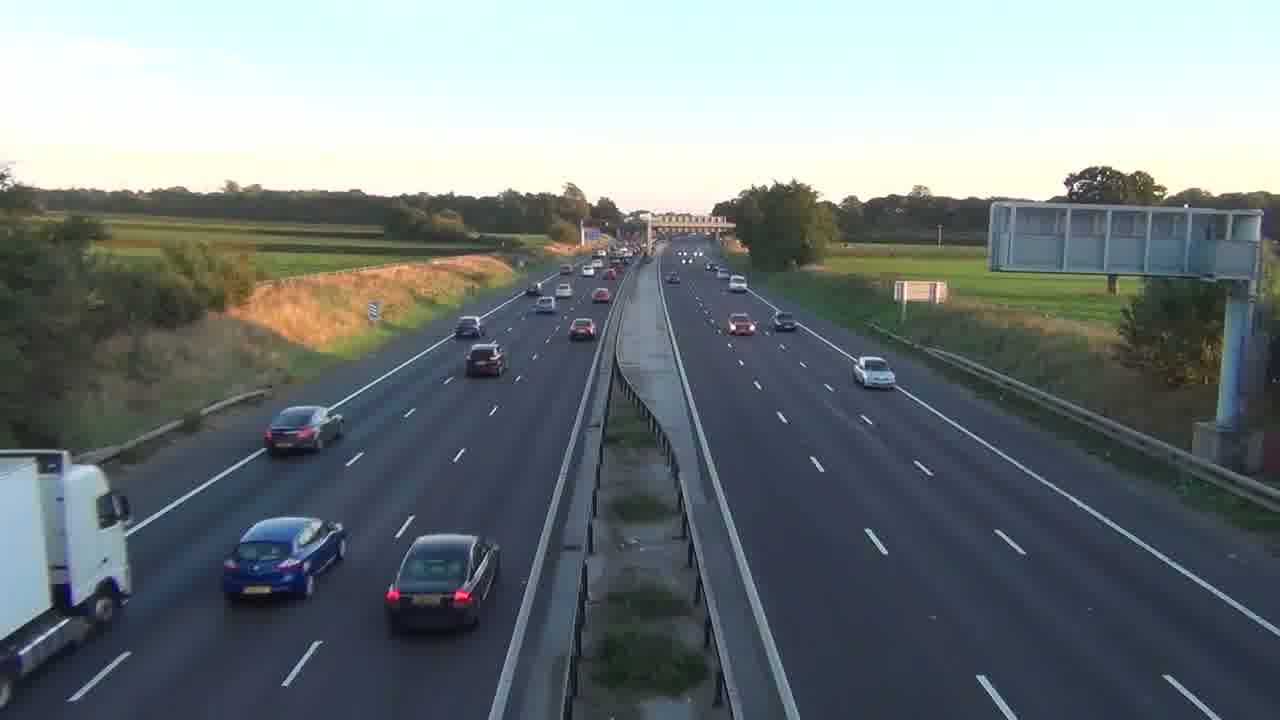car: (383, 531, 501, 635), (222, 514, 347, 603), (262, 404, 345, 456), (850, 354, 896, 390), (465, 340, 506, 377), (568, 317, 597, 342), (728, 312, 756, 336), (456, 315, 482, 339)
truck: (0, 448, 134, 708)
